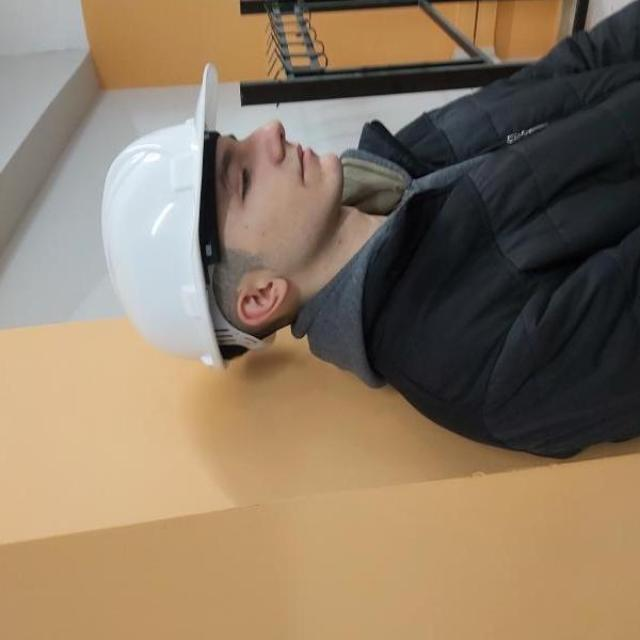white helmet: (73, 38, 247, 382)
